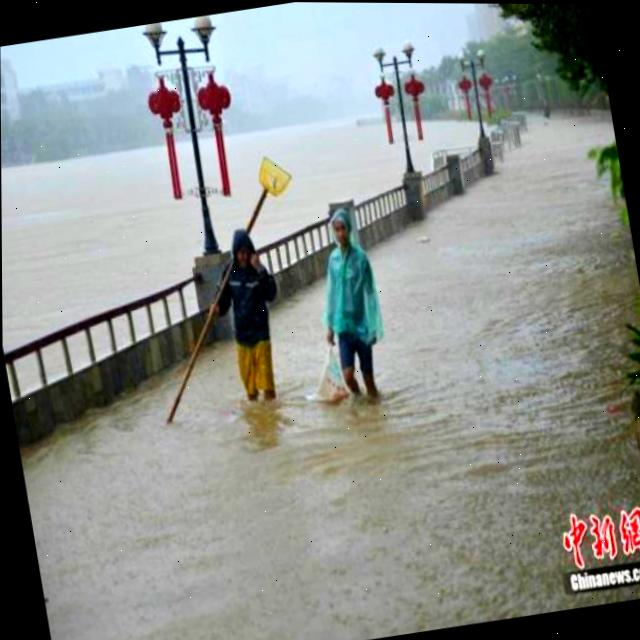civilian: (297, 198, 400, 417), (200, 217, 304, 422)
